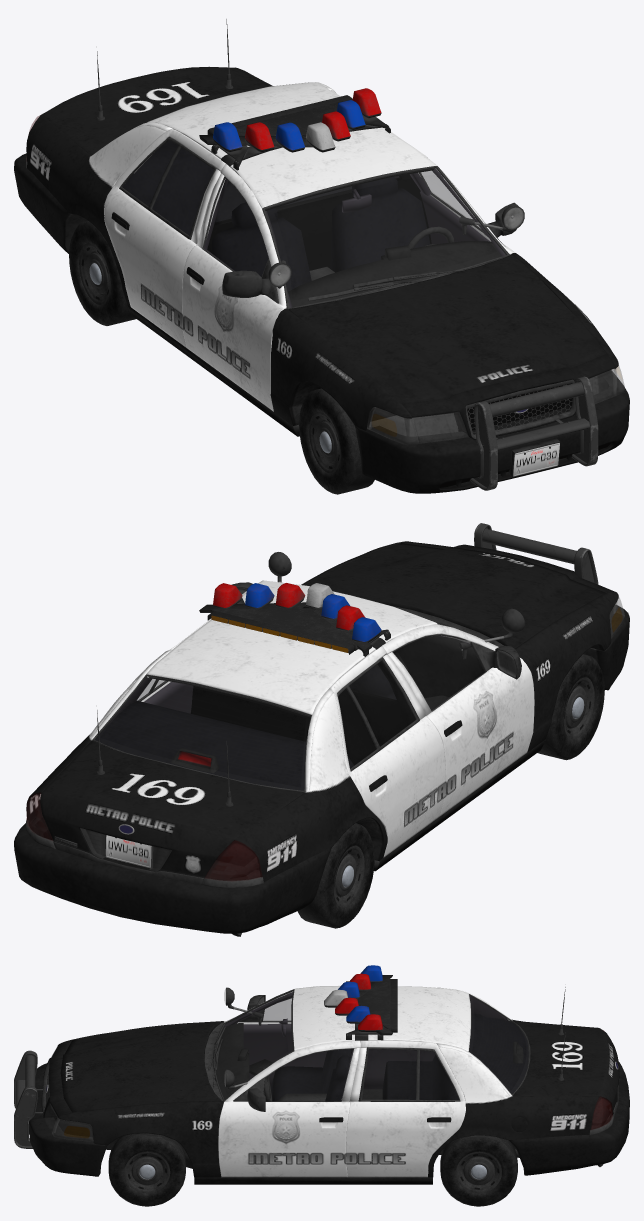
Rendered from 2001_crown_victoria_police_interceptor_game_prop.glb.
3 views of the same model, one above another, from view 1: azimuth 30°, elevation 25°; view 2: azimuth 150°, elevation 25°; view 3: azimuth 270°, elevation 25° (orthographic). The views are drawn at different scales.
Parts seen in each view (by area): view 1: glass_low, fs_vector_bulbs_base_low; view 2: glass_low, fs_vector_bulbs_base_low; view 3: glass_low, fs_vector_bulbs_base_low.
Part boxes in pixels (bbox=[...]): glass_low: bbox=[14, 19, 629, 494]; fs_vector_bulbs_base_low: bbox=[199, 88, 390, 170]; glass_low: bbox=[14, 523, 629, 936]; fs_vector_bulbs_base_low: bbox=[199, 583, 390, 656]; glass_low: bbox=[14, 985, 629, 1206]; fs_vector_bulbs_base_low: bbox=[324, 965, 397, 1040].
Bounding box in the file's own units: 2.64 × 2.03 × 6.62.
7 materials, 7 textured.
